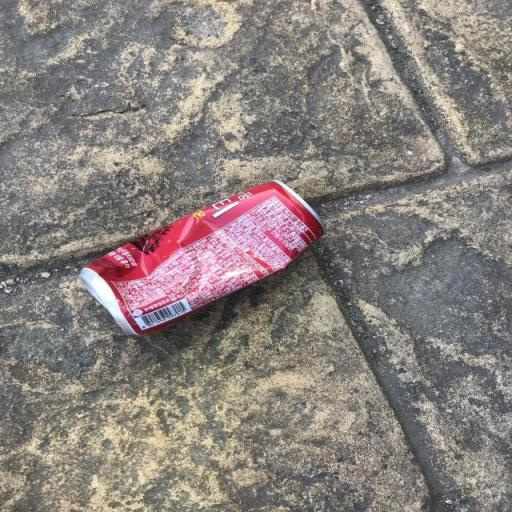metal: (67, 165, 347, 349)
